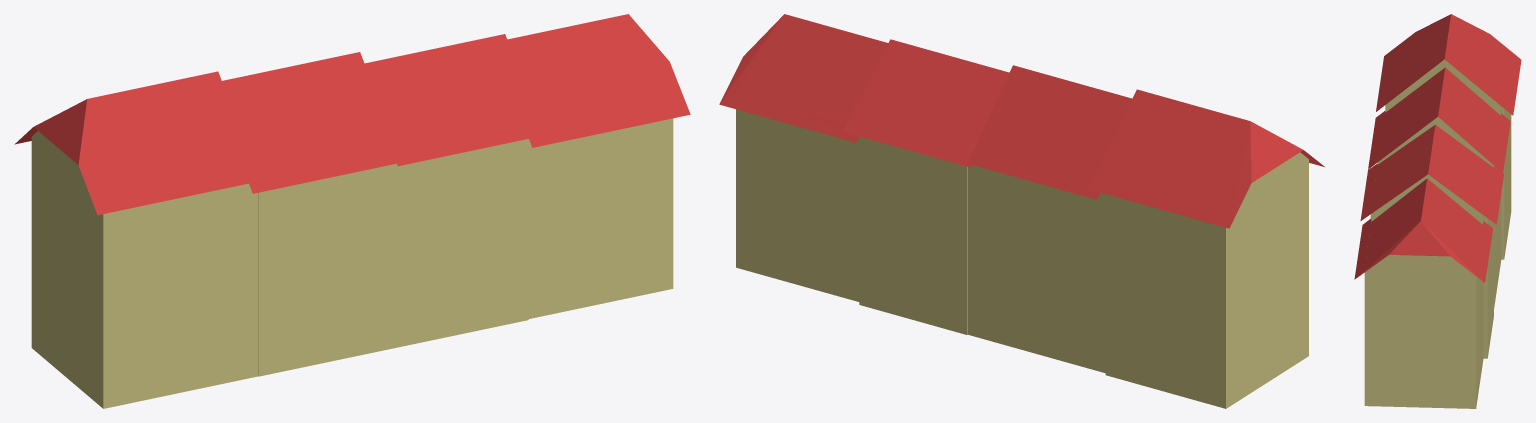
3 views of the same model, side by side, from view 1: azimuth 30°, elevation 25°; view 2: azimuth 150°, elevation 25°; view 3: azimuth 270°, elevation 25° (orthographic). The views are drawn at different scales.
Visible parts, largest first — view 1: group_13, group_5, group_9, group_17, group_11, group_3, group_7, group_15, group_12, group_8; view 2: group_13, group_5, group_9, group_17, group_11, group_3, group_7, group_15, group_12, group_8, group_16, group_4; view 3: group_9, group_7, group_15, group_3, group_11, group_13, group_17, group_5, group_12, group_8, group_4, group_16.
Boxes of the visible parts, x1=… form: group_13: x1=31, y1=131, x2=246, y2=408; group_5: x1=246, y1=163, x2=396, y2=378; group_9: x1=527, y1=118, x2=673, y2=320; group_17: x1=396, y1=139, x2=527, y2=347; group_11: x1=15, y1=71, x2=259, y2=214; group_3: x1=222, y1=52, x2=401, y2=193; group_7: x1=507, y1=14, x2=690, y2=147; group_15: x1=364, y1=34, x2=545, y2=166; group_12: x1=15, y1=116, x2=256, y2=215; group_8: x1=529, y1=39, x2=687, y2=146; group_13: x1=1104, y1=152, x2=1308, y2=408; group_5: x1=974, y1=165, x2=1103, y2=372; group_9: x1=736, y1=109, x2=860, y2=304; group_17: x1=860, y1=137, x2=973, y2=336; group_11: x1=1089, y1=89, x2=1324, y2=228; group_3: x1=967, y1=65, x2=1131, y2=199; group_7: x1=719, y1=14, x2=888, y2=142; group_15: x1=842, y1=39, x2=1009, y2=167; group_12: x1=1089, y1=142, x2=1324, y2=228; group_8: x1=720, y1=39, x2=857, y2=142; group_16: x1=842, y1=113, x2=971, y2=166; group_4: x1=968, y1=150, x2=1094, y2=198; group_9: x1=1364, y1=255, x2=1487, y2=408; group_7: x1=1354, y1=178, x2=1492, y2=282; group_15: x1=1360, y1=124, x2=1504, y2=224; group_3: x1=1368, y1=67, x2=1510, y2=172; group_11: x1=1376, y1=14, x2=1520, y2=115; group_13: x1=1385, y1=59, x2=1511, y2=260; group_17: x1=1370, y1=174, x2=1493, y2=357; group_5: x1=1377, y1=117, x2=1500, y2=308; group_12: x1=1376, y1=26, x2=1521, y2=115; group_8: x1=1355, y1=221, x2=1491, y2=281; group_4: x1=1369, y1=111, x2=1509, y2=168; group_16: x1=1361, y1=166, x2=1503, y2=223.
Size of the model in its own units: 38.75 by 13.08 by 17.51.
